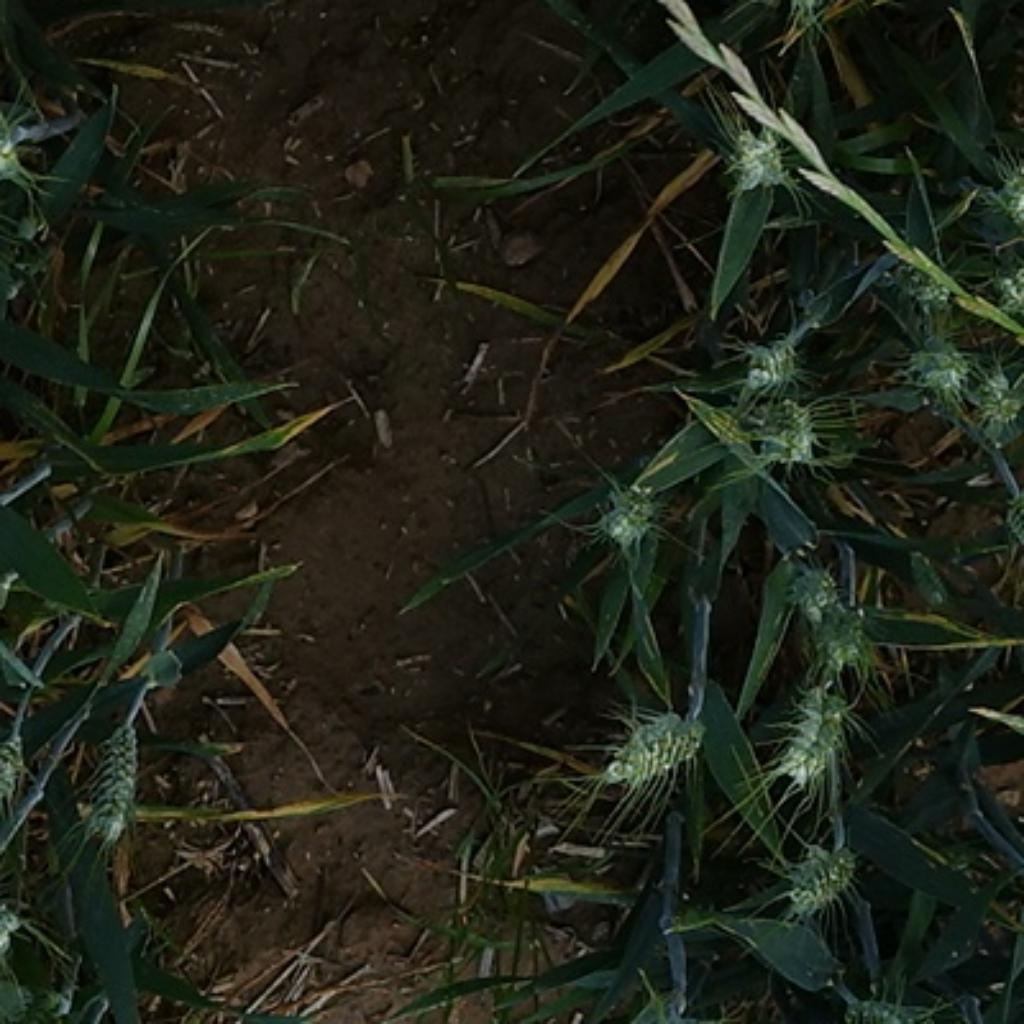0-0: (770, 542, 885, 680), (596, 696, 711, 791), (770, 673, 857, 788), (79, 714, 143, 847), (773, 829, 870, 916), (860, 238, 954, 322), (0, 95, 59, 222), (743, 395, 832, 479), (591, 473, 670, 552), (716, 120, 798, 194), (903, 320, 975, 399), (729, 325, 808, 394), (980, 253, 1024, 322), (0, 721, 32, 812), (985, 158, 1024, 232), (975, 366, 1024, 424), (995, 481, 1024, 570)
